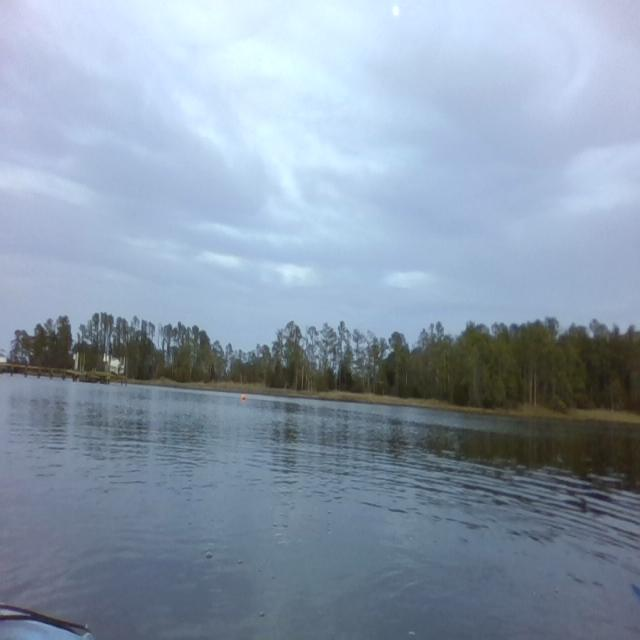Buoy: (240, 388, 249, 406)
